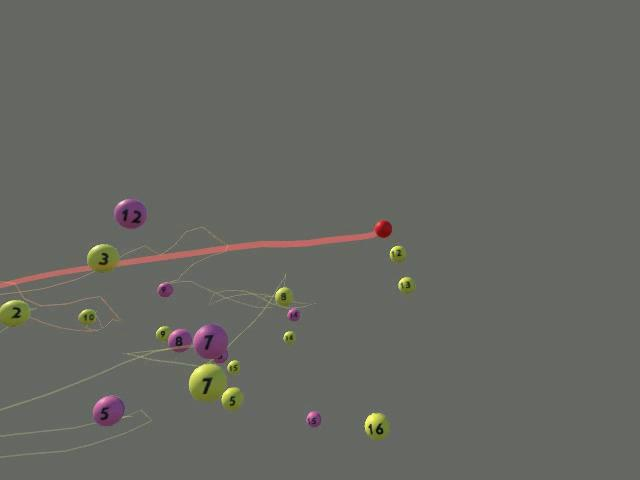ball_02_yellow: (0, 299, 30, 327)
ball_03_yellow: (86, 243, 119, 272)
ball_05_pink: (92, 394, 124, 426)
ball_05_yellow: (220, 386, 243, 410)
ball_07_pink: (193, 323, 228, 359)
ball_07_yellow: (188, 363, 226, 401)
ball_08_pink: (167, 328, 192, 352)
ball_08_yellow: (274, 286, 293, 306)
ball_09_pink: (156, 281, 173, 297)
ball_09_yellow: (155, 325, 170, 341)
ball_10_yellow: (77, 307, 96, 324)
ball_12_pink: (113, 198, 147, 229)
ball_12_yellow: (389, 245, 406, 262)
ball_13_yellow: (397, 276, 415, 293)
ball_14_pink: (286, 307, 300, 321)
ball_14_yellow: (282, 330, 296, 344)
ball_15_pink: (305, 410, 321, 427)
ball_15_yellow: (226, 359, 240, 374)
ball_16_yellow: (364, 412, 389, 439)
ball_unknown: (212, 349, 228, 363)
user_cursor: (373, 219, 392, 237)
